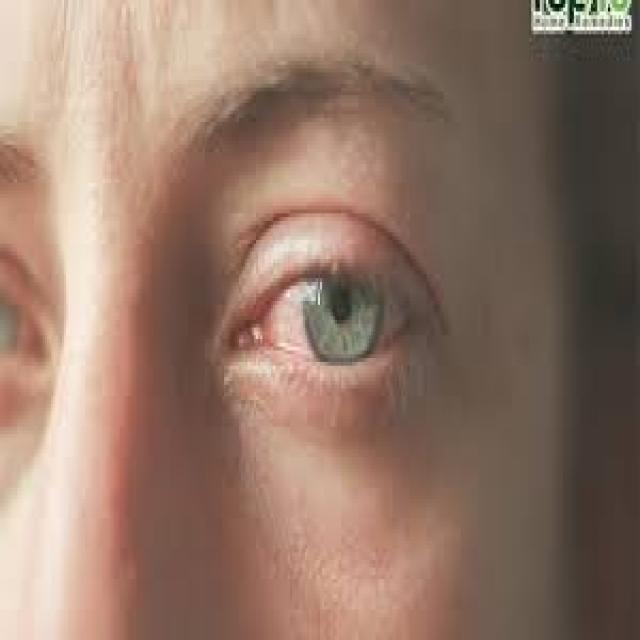Puffy Eyes - v3 Dark Circle: (231, 384, 462, 550)
